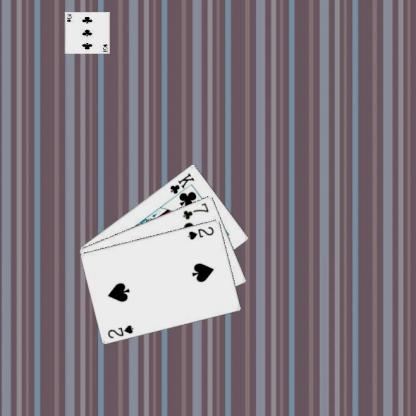2S: (185, 223, 216, 241), (105, 322, 135, 339)
7C: (180, 199, 210, 220)
KC: (167, 170, 196, 200)
